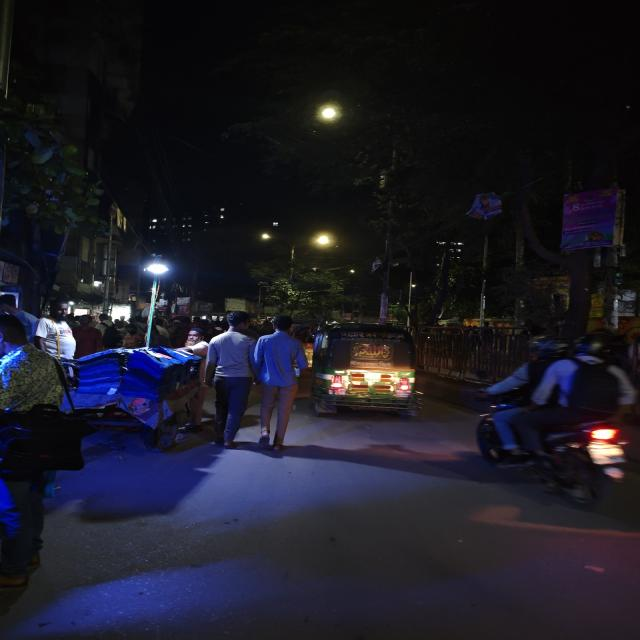cng: (310, 322, 428, 422)
motorcycle: (459, 324, 640, 518)
pedestrian: (200, 309, 277, 450), (236, 311, 306, 453)
